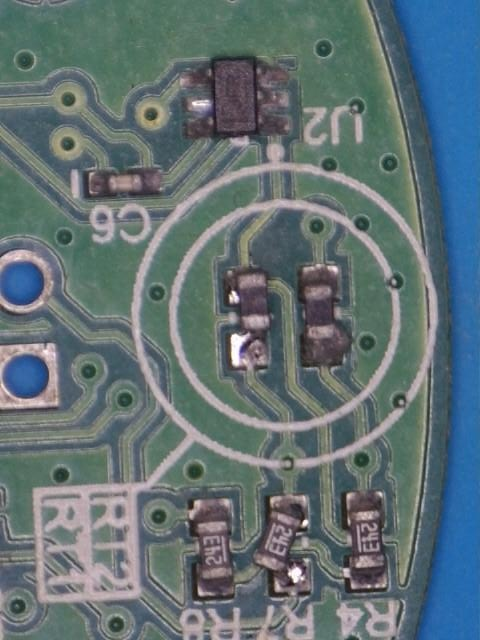pcb_defect: (252, 493, 313, 595), (224, 266, 272, 370)
